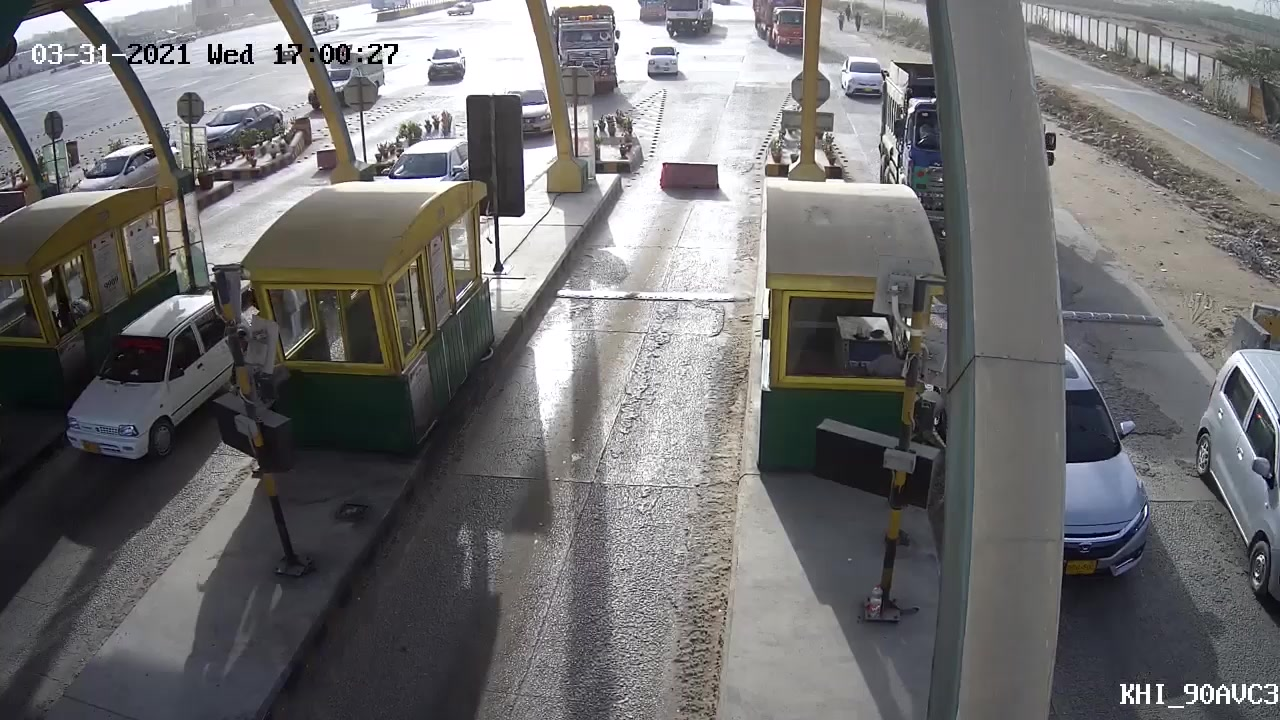F1: (643, 40, 687, 77)
